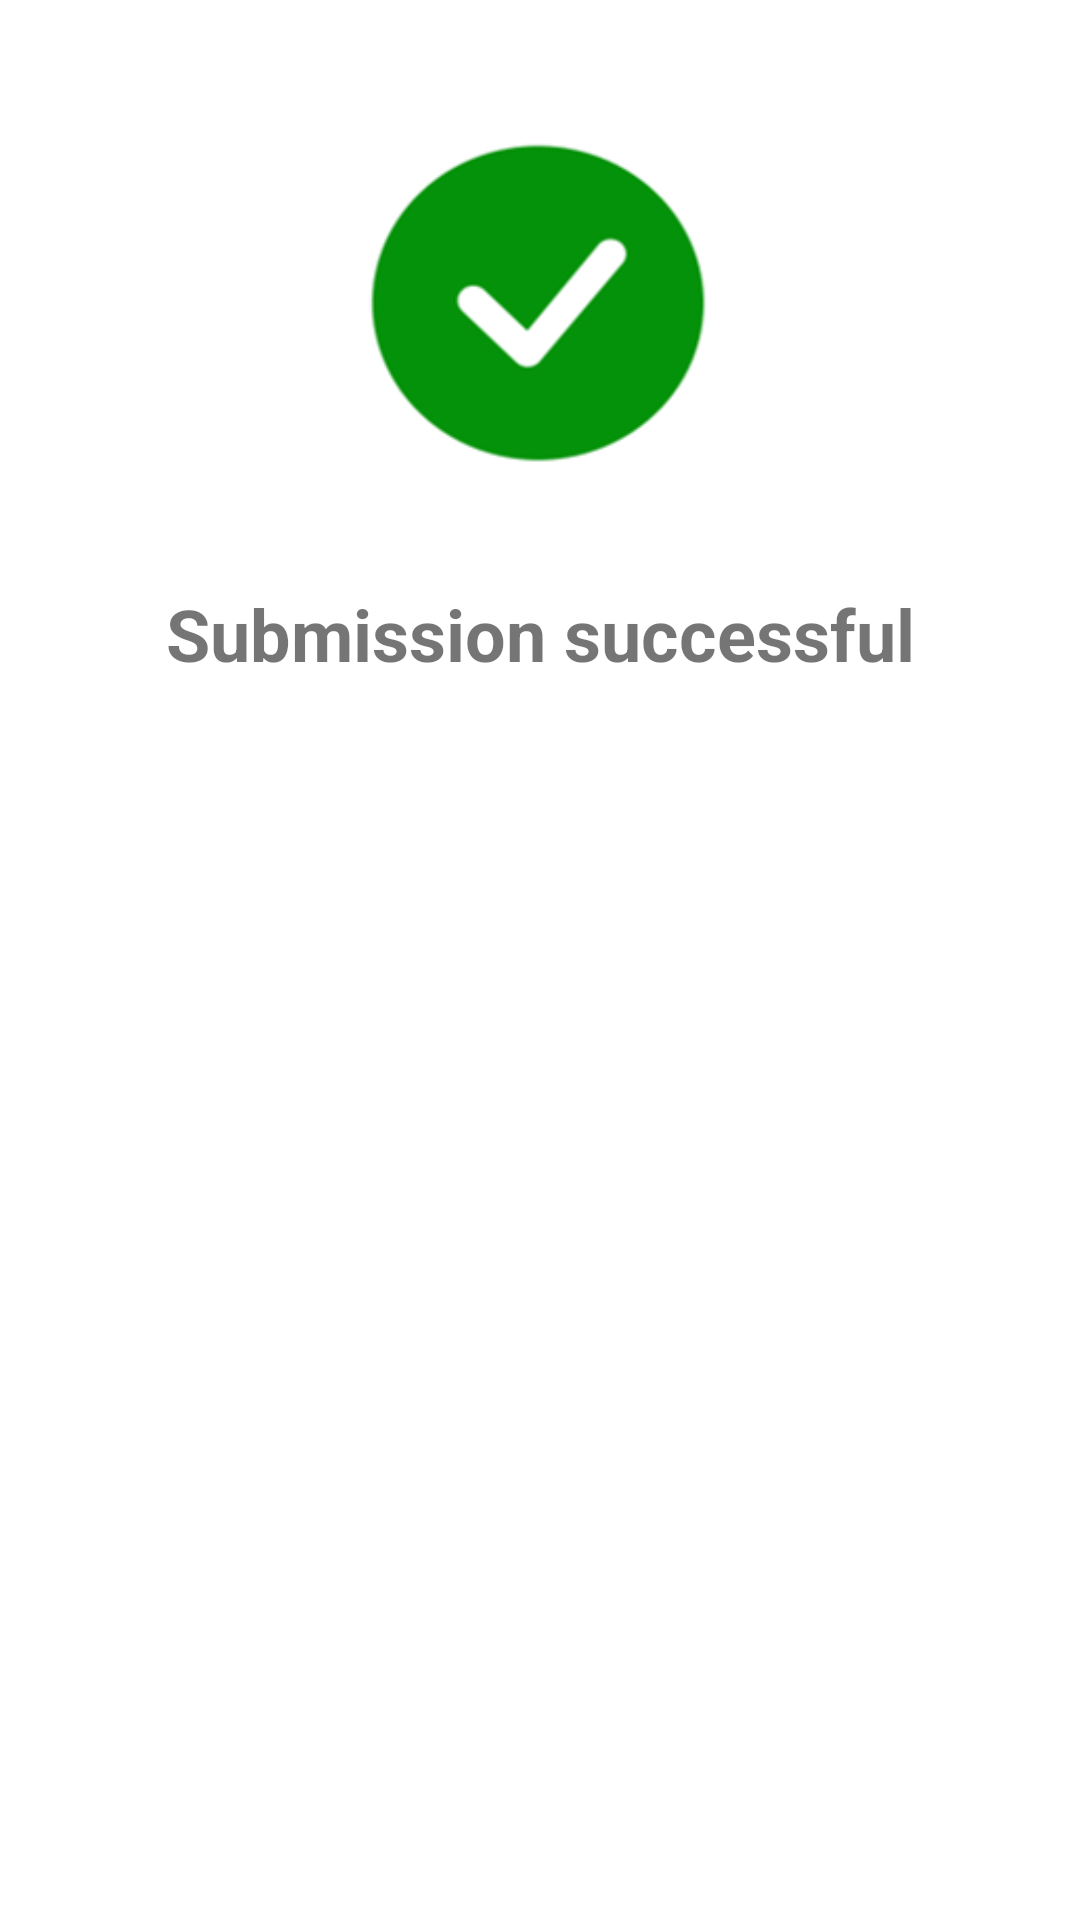

Where icons sit on this 1080*1920 app screen, as (x1, y1, x2, y2):
tick: (371, 144, 706, 462)
